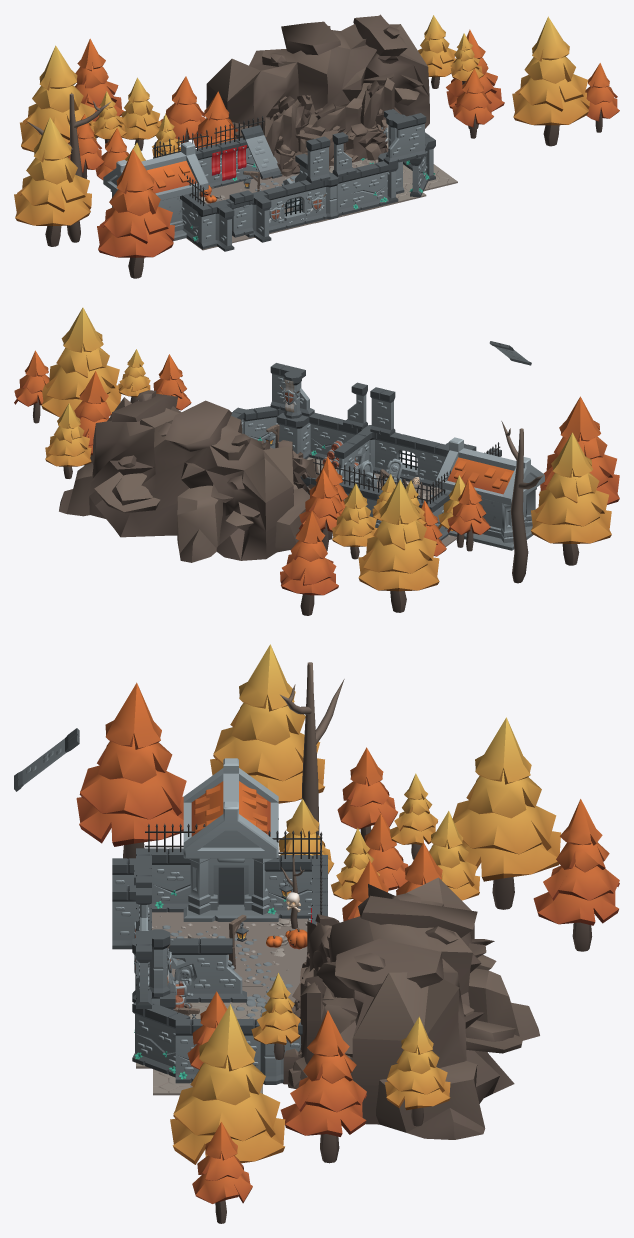
File: test_small_map.glb
The picture shows the model from 3 angles, top to bottom: view 1: azimuth 30°, elevation 25°; view 2: azimuth 150°, elevation 25°; view 3: azimuth 270°, elevation 25°; orthographic projection. The views are drawn at different scales.
Parts seen in each view (by area): view 1: rubble_large__4_, tree_pine_orange_large, tree_pine_yellow_large__2_, tree_pine_yellow_large__4_, tree_pine_yellow_large__1_, crypt, wall_doorway_Tsplit__1_, rubble_large__2_, tree_pine_orange_medium, tree_pine_yellow_large, wall_cracked__1_.001, wall_archedwindow_gated (+31 smaller); view 2: rubble_large__4_, tree_pine_yellow_large__2_, tree_pine_yellow_large__1_, crypt, tree_pine_yellow_large__4_, tree_pine_orange_medium, tree_pine_orange_large, tree_pine_yellow_large__3_, tree_dead_large, tree_pine_yellow_large, tree_pine_orange_small, tree_pine_orange_small__3_ (+20 smaller); view 3: rubble_large__4_, crypt, tree_pine_orange_large, tree_pine_yellow_large__1_, tree_pine_yellow_large__4_, tree_pine_yellow_large__2_, tree_pine_orange_medium, tree_pine_orange_medium__1_, tree_pine_yellow_large__3_, tree_pine_orange_small__4_, tree_pine_orange_small__3_, wall_cracked__1_ (+26 smaller).
Part boxes in pixels (bbox=[...]): rubble_large__4_: bbox=[206, 14, 429, 140]; tree_pine_orange_large: bbox=[97, 149, 174, 278]; tree_pine_yellow_large__2_: bbox=[14, 117, 91, 246]; tree_pine_yellow_large__4_: bbox=[512, 16, 589, 146]; tree_pine_yellow_large__1_: bbox=[20, 45, 96, 151]; crypt: bbox=[103, 141, 208, 241]; wall_doorway_Tsplit__1_: bbox=[197, 188, 277, 251]; rubble_large__2_: bbox=[261, 94, 315, 179]; tree_pine_orange_medium: bbox=[75, 38, 124, 138]; tree_pine_yellow_large: bbox=[120, 77, 161, 150]; wall_cracked__1_.001: bbox=[350, 161, 388, 212]; wall_archedwindow_gated: bbox=[272, 180, 314, 230]; rubble_large__4_: bbox=[59, 390, 321, 562]; tree_pine_yellow_large__2_: bbox=[531, 432, 611, 565]; tree_pine_yellow_large__1_: bbox=[358, 479, 439, 612]; crypt: bbox=[435, 437, 544, 550]; tree_pine_yellow_large__4_: bbox=[41, 307, 121, 417]; tree_pine_orange_medium: bbox=[280, 511, 338, 615]; tree_pine_orange_large: bbox=[539, 396, 619, 504]; tree_pine_yellow_large__3_: bbox=[45, 403, 91, 478]; tree_dead_large: bbox=[501, 421, 544, 583]; tree_pine_yellow_large: bbox=[332, 483, 377, 559]; tree_pine_orange_small: bbox=[299, 468, 343, 550]; tree_pine_orange_small__3_: bbox=[447, 479, 490, 551]; rubble_large__4_: bbox=[288, 877, 539, 1139]; crypt: bbox=[183, 758, 278, 921]; tree_pine_orange_large: bbox=[76, 682, 186, 858]; tree_pine_yellow_large__1_: bbox=[452, 717, 560, 909]; tree_pine_yellow_large__4_: bbox=[170, 1004, 285, 1164]; tree_pine_yellow_large__2_: bbox=[210, 644, 324, 819]; tree_pine_orange_medium: bbox=[533, 799, 619, 951]; tree_pine_orange_medium__1_: bbox=[280, 1010, 366, 1163]; tree_pine_yellow_large__3_: bbox=[384, 1016, 450, 1126]; tree_pine_orange_small__4_: bbox=[192, 1122, 252, 1223]; tree_pine_orange_small__3_: bbox=[337, 747, 397, 841]; wall_cracked__1_: bbox=[132, 1002, 190, 1077].
Size of the model in its own units: 63.25 by 15.2 by 38.25.
57 materials, 57 textured.
